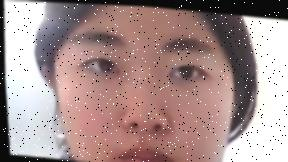eye: (178, 64, 192, 76), (98, 58, 112, 70)
iris: (168, 62, 209, 80), (80, 57, 121, 73)
